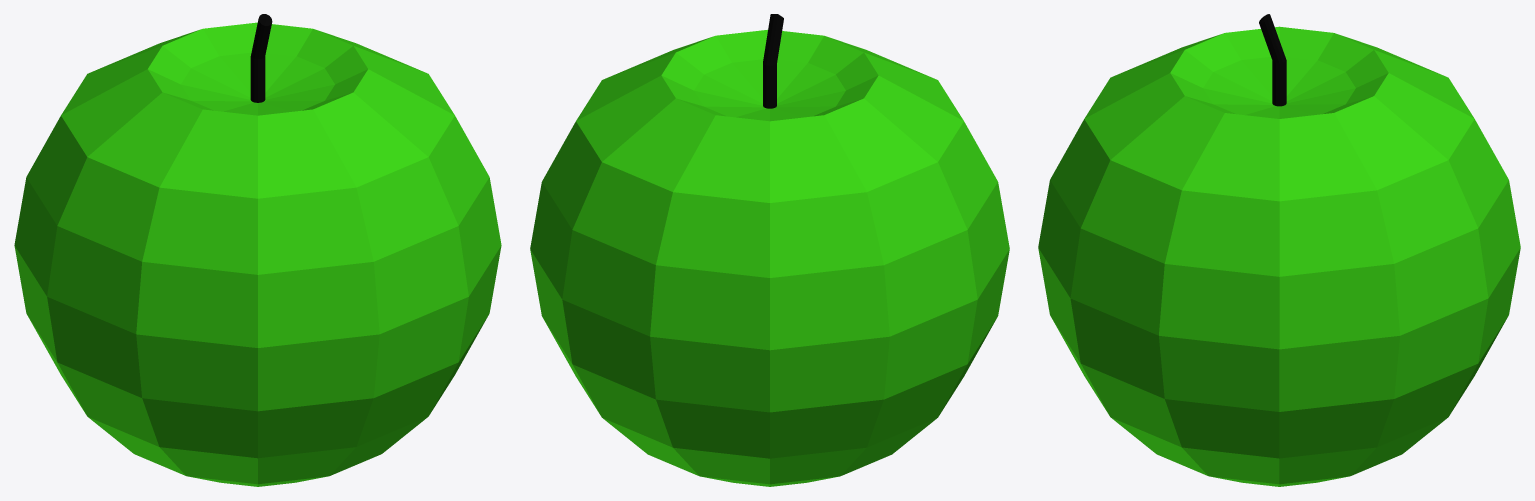
Rendered from demApplesGreen.fbx.
3 views of the same model, side by side, from view 1: azimuth 30°, elevation 25°; view 2: azimuth 150°, elevation 25°; view 3: azimuth 270°, elevation 25° (orthographic).
Visible parts, largest first — view 1: Sphere; view 2: Sphere; view 3: Sphere.
Boxes of the visible parts, <box> form: Sphere: <box>14,14,501,486</box>; Sphere: <box>530,14,1009,486</box>; Sphere: <box>1038,14,1520,486</box>.
Bounding box in the file's own units: 13.22 × 13.64 × 13.22.
